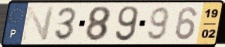3: (52, 6, 78, 42)
6: (173, 6, 199, 41)
8: (84, 5, 113, 43)
9: (115, 5, 140, 43), (146, 6, 172, 42)
N: (19, 5, 57, 43)
